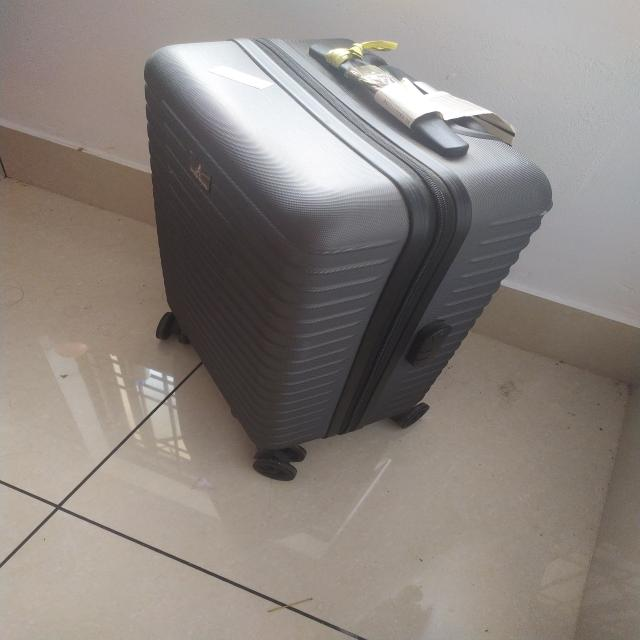suitcaserotation: (137, 31, 558, 482)
